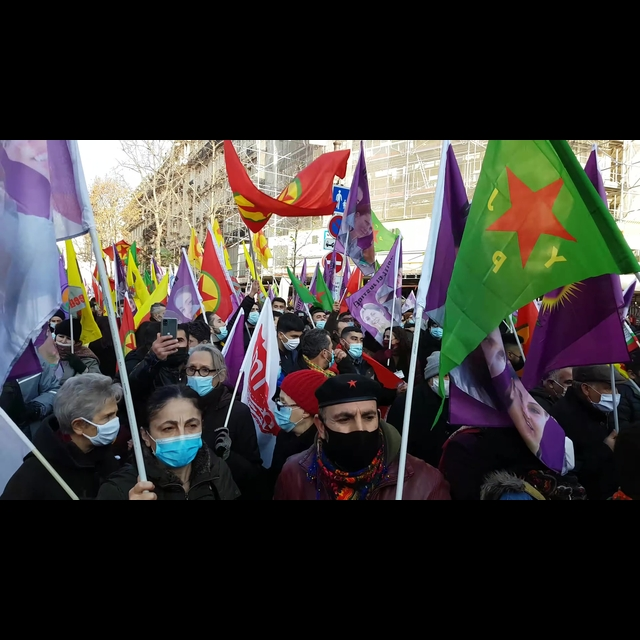YPJ: (480, 165, 570, 281)
